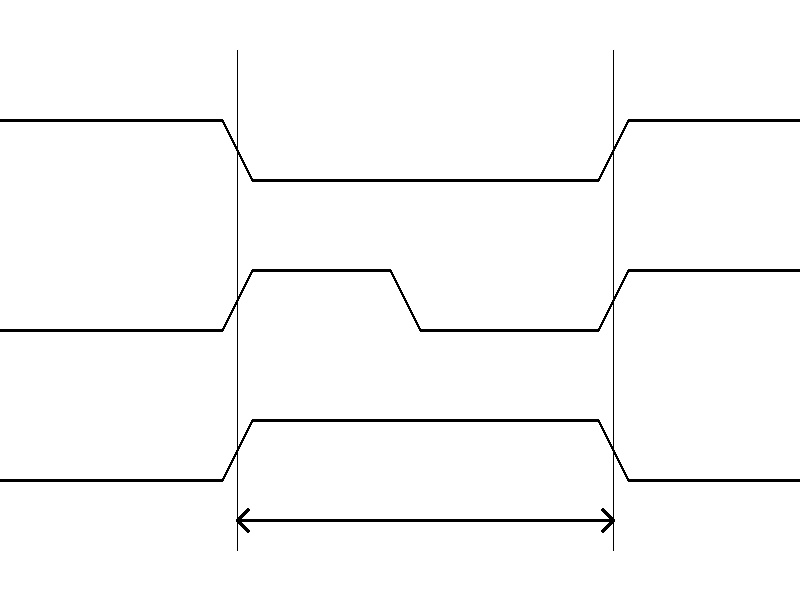double_arrow: (237, 505, 613, 535)
